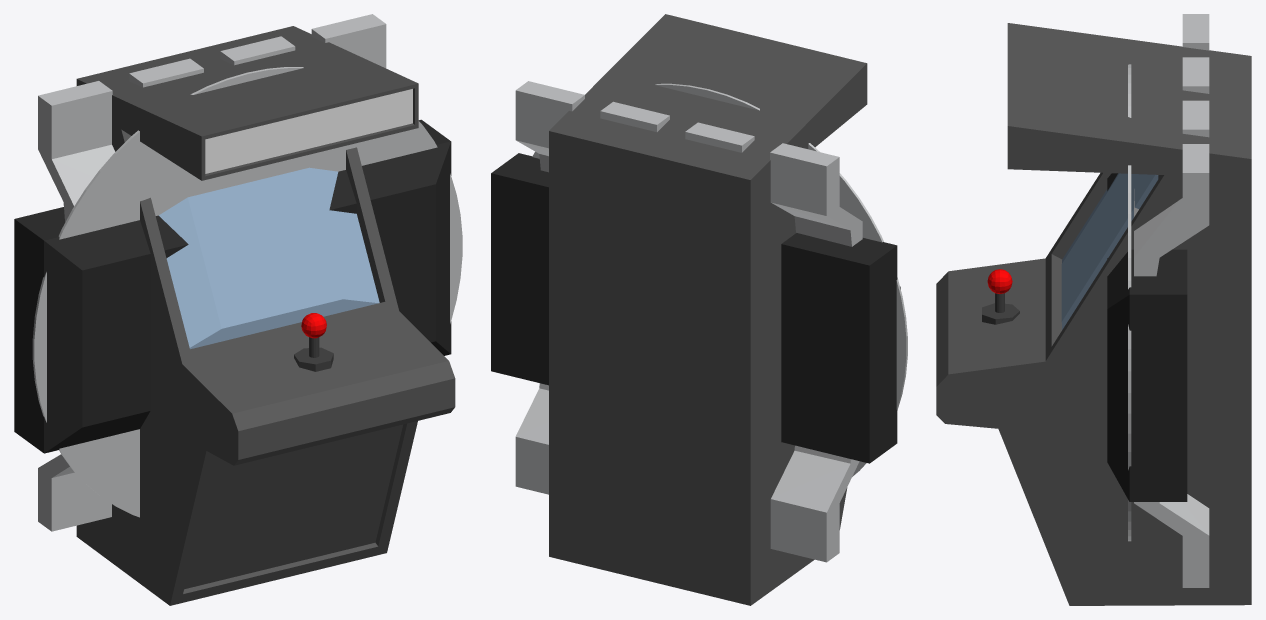
Rendered from downloadItems.glb.
3 renders of one model, left to right at view 1: azimuth 30°, elevation 25°; view 2: azimuth 150°, elevation 25°; view 3: azimuth 270°, elevation 25°, orthographic. The views are drawn at different scales.
Visible parts, largest first — view 1: Box 3, Box 1, Cylinder, Box 2 (×5), Cylinder 1; view 2: Box 3, Box 1, Box 2 (×6), Cylinder; view 3: Box 3, Box 1, Box 2 (×5), Cylinder, Cylinder 1, Quad Sphere.
Boxes of the visible parts, x1,y1,x2,y2 form: Box 3: (76,26,455,605); Box 1: (14,119,451,453); Cylinder: (32,67,462,517); Box 2 (×5): (38,14,386,531); Cylinder 1: (294,347,333,371); Box 3: (549,14,900,605); Box 1: (491,153,897,463); Box 2 (×6): (515,81,862,562); Cylinder: (532,83,907,476); Box 3: (936,23,1251,605); Box 1: (1107,173,1187,501); Box 2 (×5): (1134,14,1209,587); Cylinder: (1128,64,1131,541); Cylinder 1: (982,303,1019,324); Quad Sphere: (987,269,1012,293).
Size of the model in its own units: 1.54 by 1.7 by 1.01.
